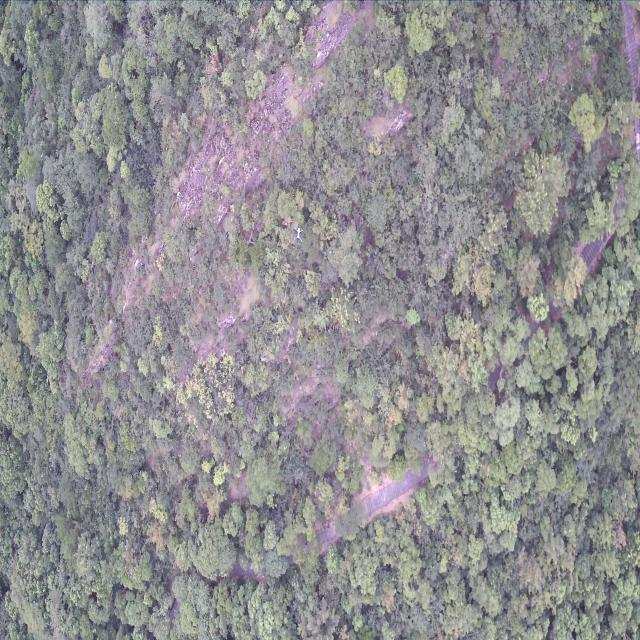UAV: (294, 226, 303, 242)
